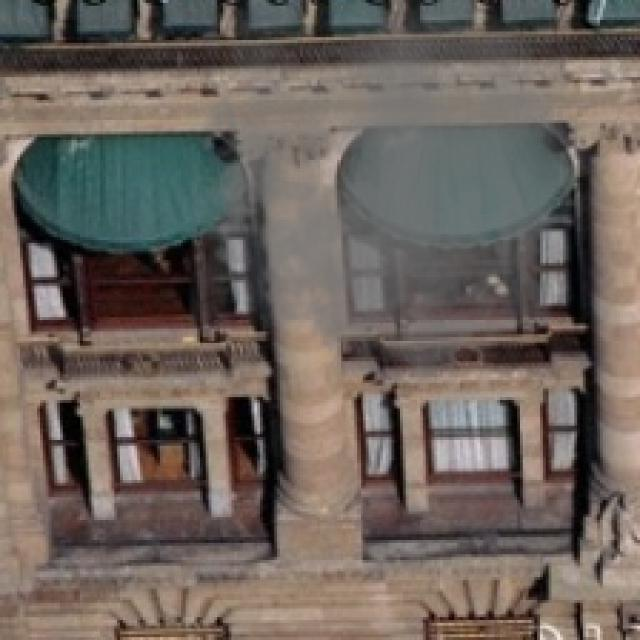Smoke: (188, 0, 578, 400)
